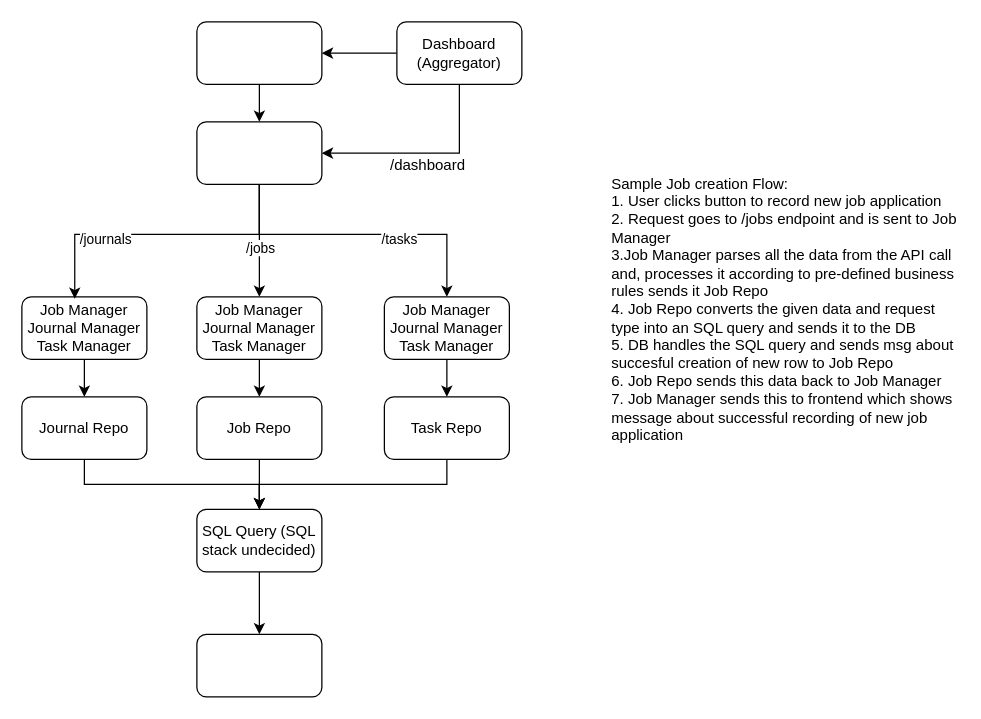
Image size: 981x719. Some labels were removed from this diagram. Here are the shapes that lost their labels. From the top down, the centre of each, then its label:
At point 259,52: "React Frontend".
At point 259,152: "REST API".
At point 259,665: "DB (Undecided)".
